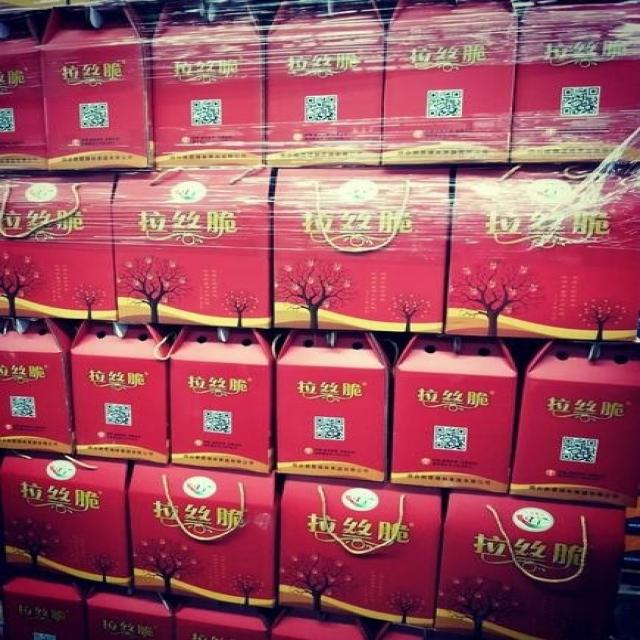box: (443, 164, 639, 342), (272, 166, 455, 333), (434, 489, 628, 640), (275, 473, 447, 629), (110, 167, 274, 330), (385, 333, 547, 494), (125, 462, 284, 617), (381, 0, 518, 166), (508, 339, 639, 508), (266, 0, 397, 167), (38, 0, 163, 172), (509, 0, 640, 164), (274, 329, 413, 483), (152, 0, 278, 167), (0, 448, 132, 596), (0, 170, 118, 323), (168, 327, 290, 472), (68, 321, 182, 466), (0, 316, 81, 455), (0, 8, 49, 172), (0, 572, 87, 639), (84, 588, 178, 640), (268, 608, 387, 640), (174, 602, 274, 640), (369, 623, 435, 640)
